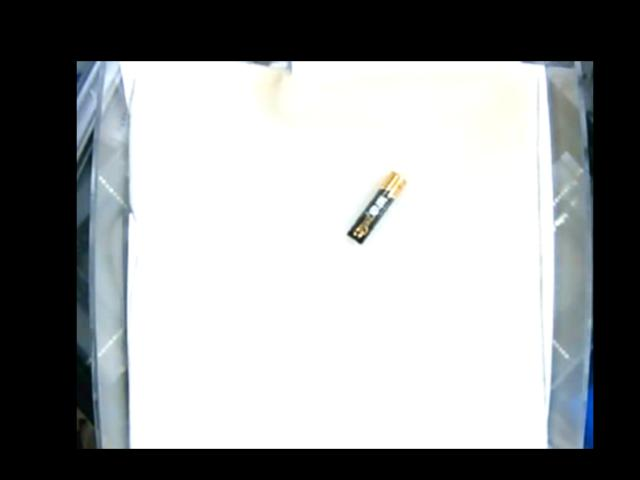Battery: (347, 171, 407, 242)
